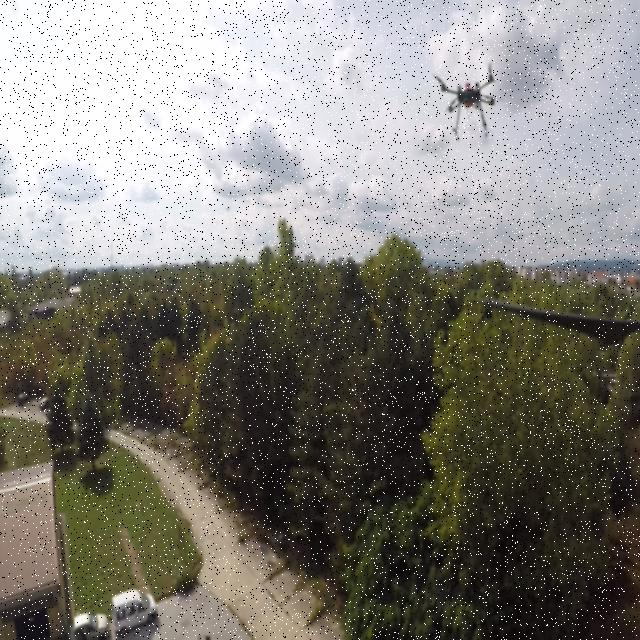UAV: (431, 55, 506, 152)
